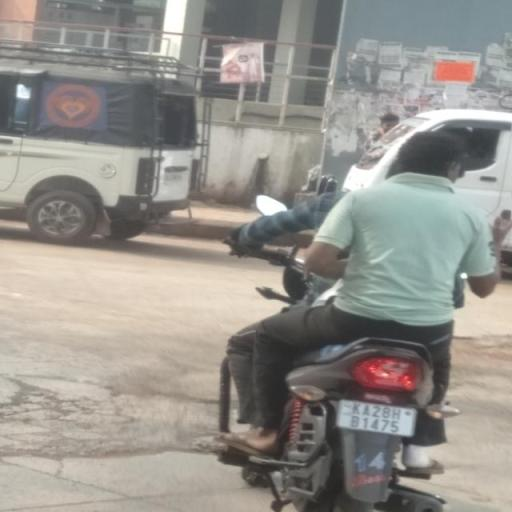bike: (214, 116, 504, 512)
numberplate: (336, 396, 418, 442)
withouthelmet: (404, 128, 468, 186)
